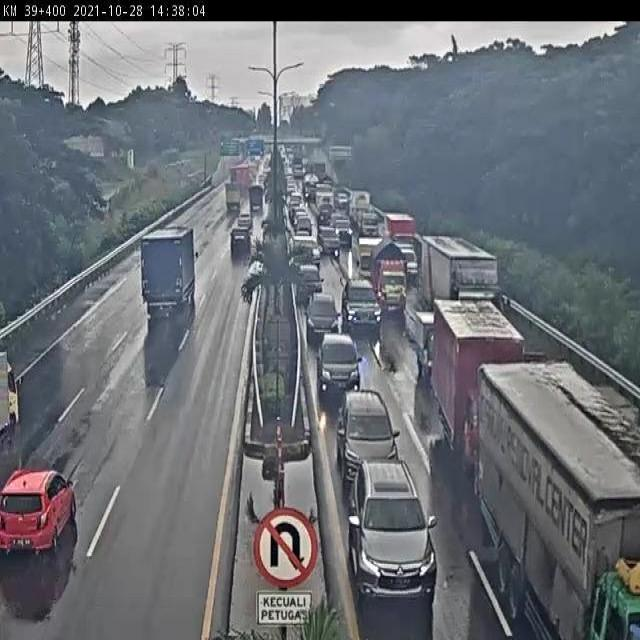big truck: (463, 357, 640, 640), (427, 294, 529, 486), (418, 225, 508, 315), (133, 223, 205, 329)
car: (345, 451, 442, 600), (0, 454, 81, 566), (332, 389, 405, 483), (312, 327, 364, 404), (333, 272, 381, 337), (301, 289, 345, 355), (411, 312, 442, 397), (392, 237, 422, 280), (297, 264, 323, 309), (225, 228, 253, 267), (232, 212, 260, 235)
small truck: (368, 237, 411, 316), (0, 343, 31, 448), (218, 179, 244, 216), (246, 181, 265, 215)
